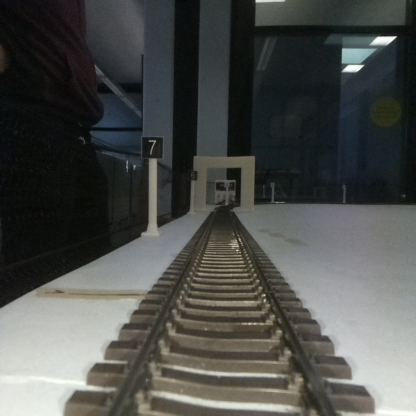black-info-6: (188, 169, 197, 214)
black-info-7: (142, 135, 162, 233)
